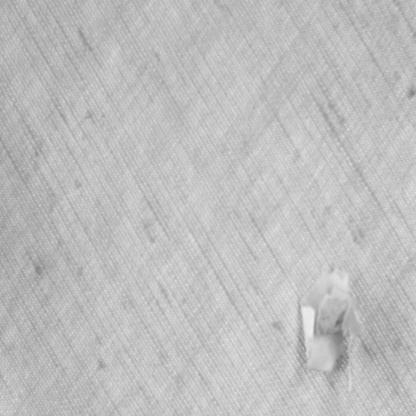objects: (295, 266, 366, 395)
